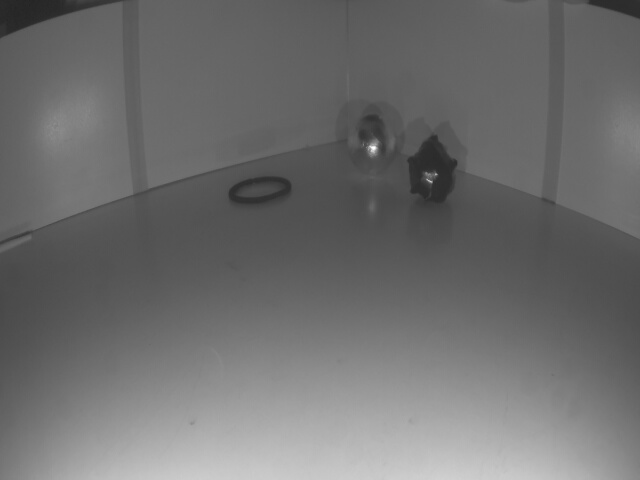Dead: (411, 134, 452, 199)
Live: (349, 105, 390, 171)
